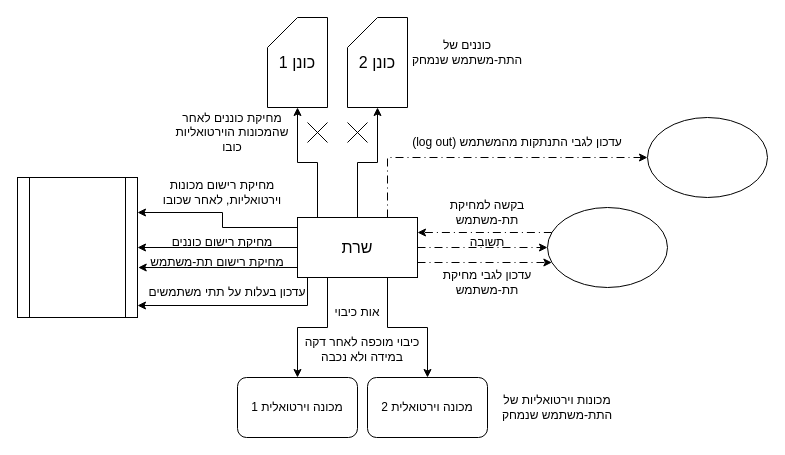
Some shapes in this 785 by 455 pixel diagram are drawn without their labels. Here are the shapes that lost their labels. From the top down, the centre of each, then its label:
At [707,157]: "תת-משתמש".
At [77,247]: "מסד נתונים".
At [607,247]: "משתמש בעל".
